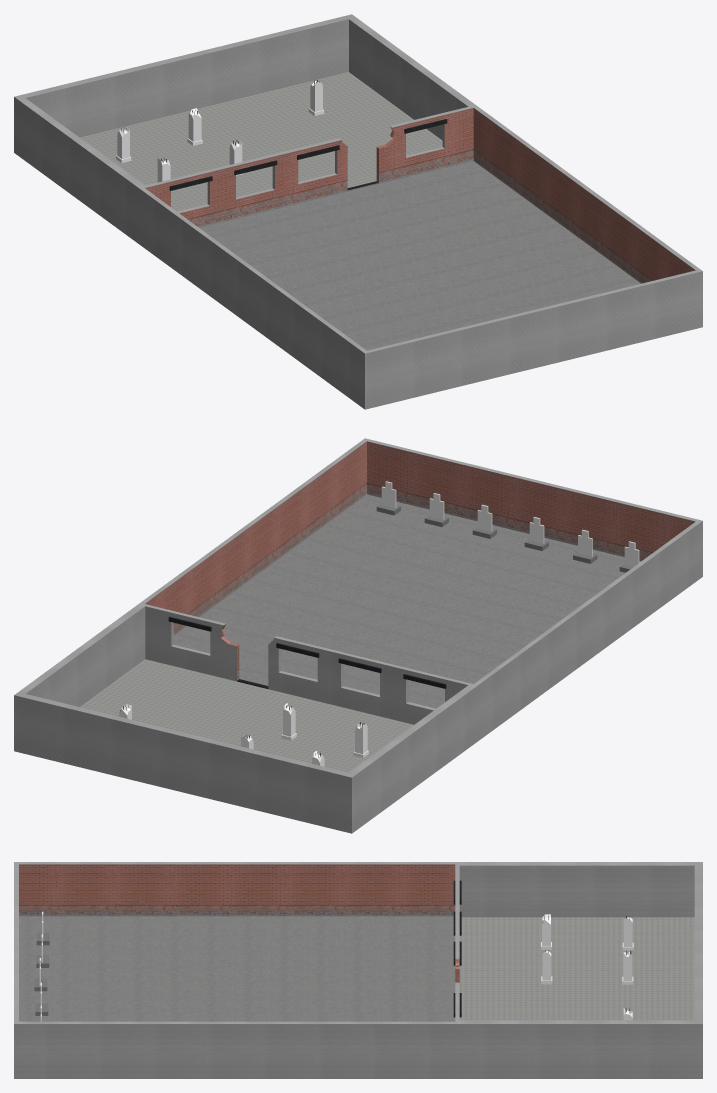
The model's file is Killhouse.fbx.
3 views of the same model, one above another, from view 1: azimuth 30°, elevation 25°; view 2: azimuth 150°, elevation 25°; view 3: azimuth 270°, elevation 25° (orthographic).
Parts seen in each view (by area): view 1: Group_1; view 2: Group_1; view 3: Group_1.
Boxes of the visible parts, x1,y1,x2,y2 form: Group_1: (14, 14, 702, 409); Group_1: (14, 438, 702, 833); Group_1: (14, 862, 702, 1078).
Size of the model in its own units: 2095 by 335 by 3769.
